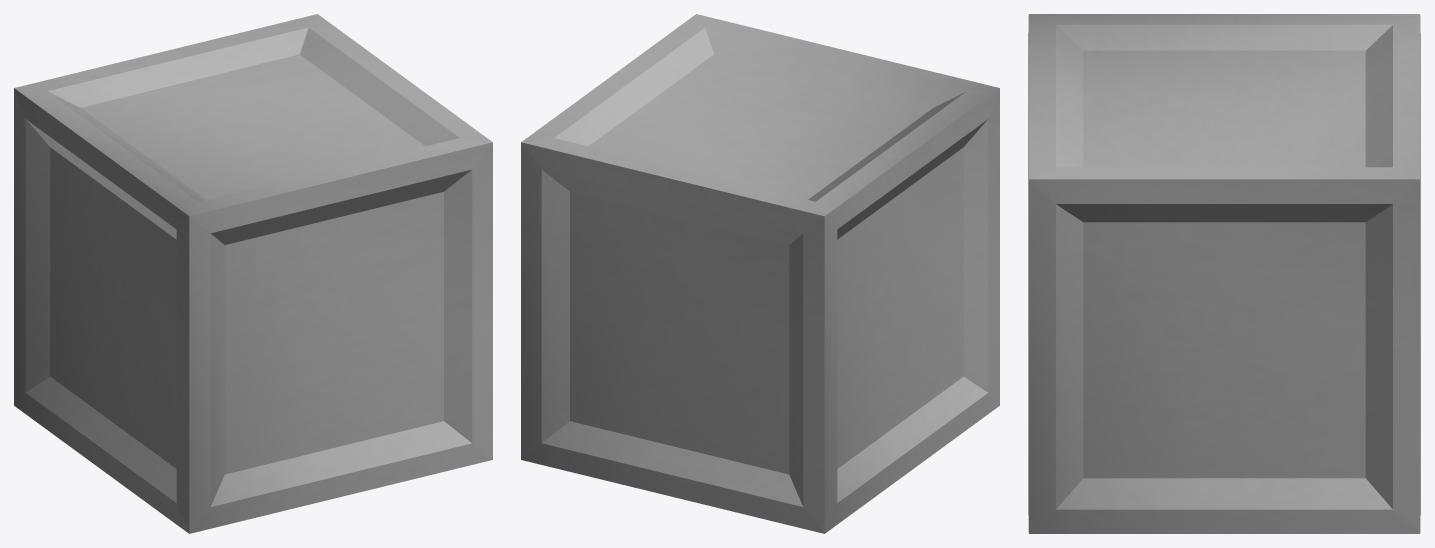
Rendered from crateA.FBX.
3 renders of one model, left to right at view 1: azimuth 30°, elevation 25°; view 2: azimuth 150°, elevation 25°; view 3: azimuth 270°, elevation 25°, orthographic. The views are drawn at different scales.
Parts seen in each view (by area): view 1: crateA; view 2: crateA; view 3: crateA.
Boxes of the visible parts, bbox=[...] form: crateA: bbox=[14, 14, 492, 533]; crateA: bbox=[521, 14, 999, 533]; crateA: bbox=[1028, 14, 1420, 533].
Size of the model in its own units: 40.14 by 40.14 by 40.14.
